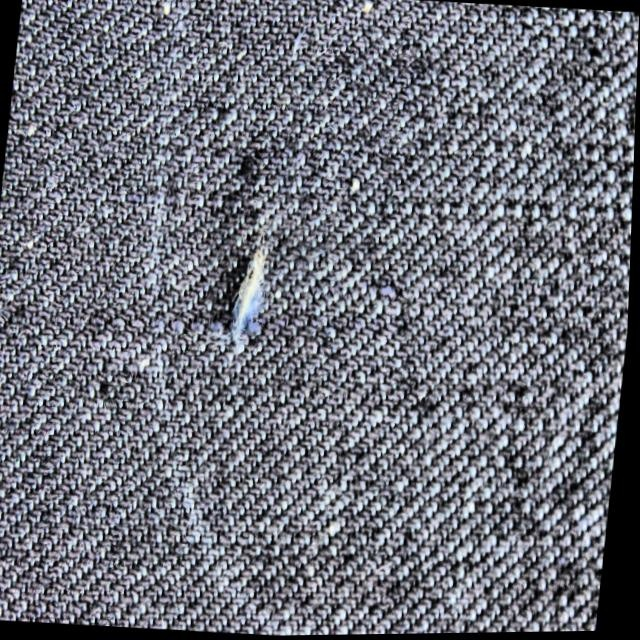Stitch: (177, 204, 313, 396)
